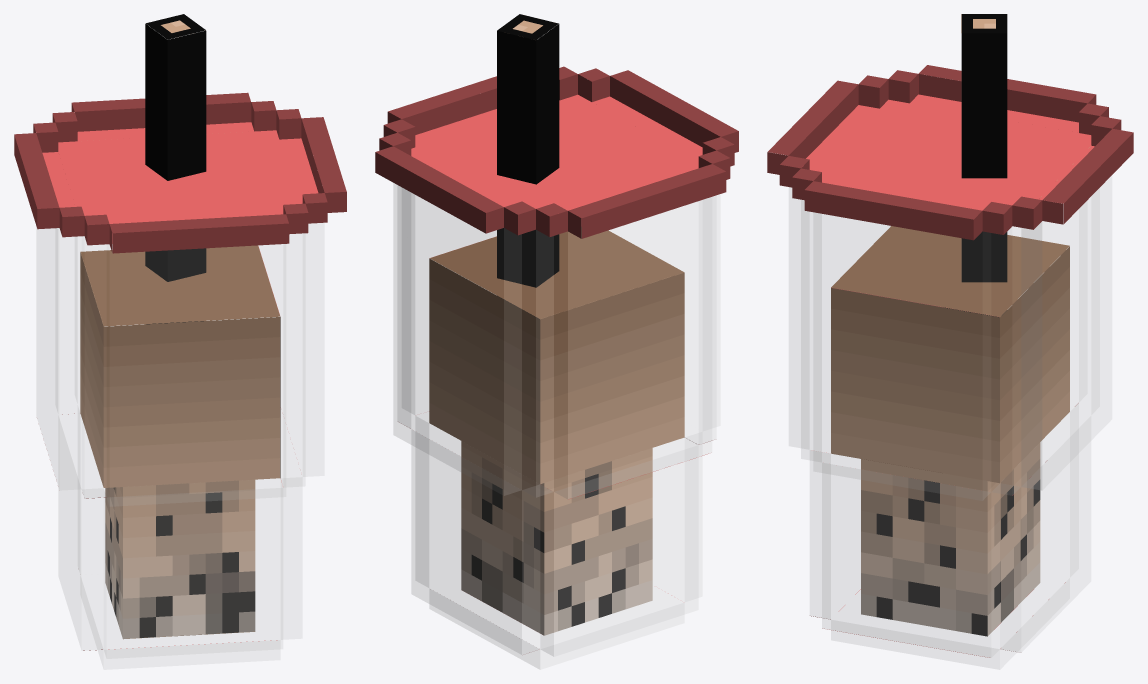
The model's file is boba_tea-transformed.glb.
3 renders of one model, left to right at view 1: azimuth 30°, elevation 25°; view 2: azimuth 150°, elevation 25°; view 3: azimuth 270°, elevation 25°, orthographic. The views are drawn at different scales.
Visible parts, largest first — view 1: Boba_tea; view 2: Boba_tea; view 3: Boba_tea.
Boxes of the visible parts, x1,y1,x2,y2 form: Boba_tea: (14,14,346,669); Boba_tea: (375,14,738,669); Boba_tea: (767,14,1133,669).
Bounding box in the file's own units: 4 × 7.25 × 4.
Materials: 1 (1 with a texture image).
